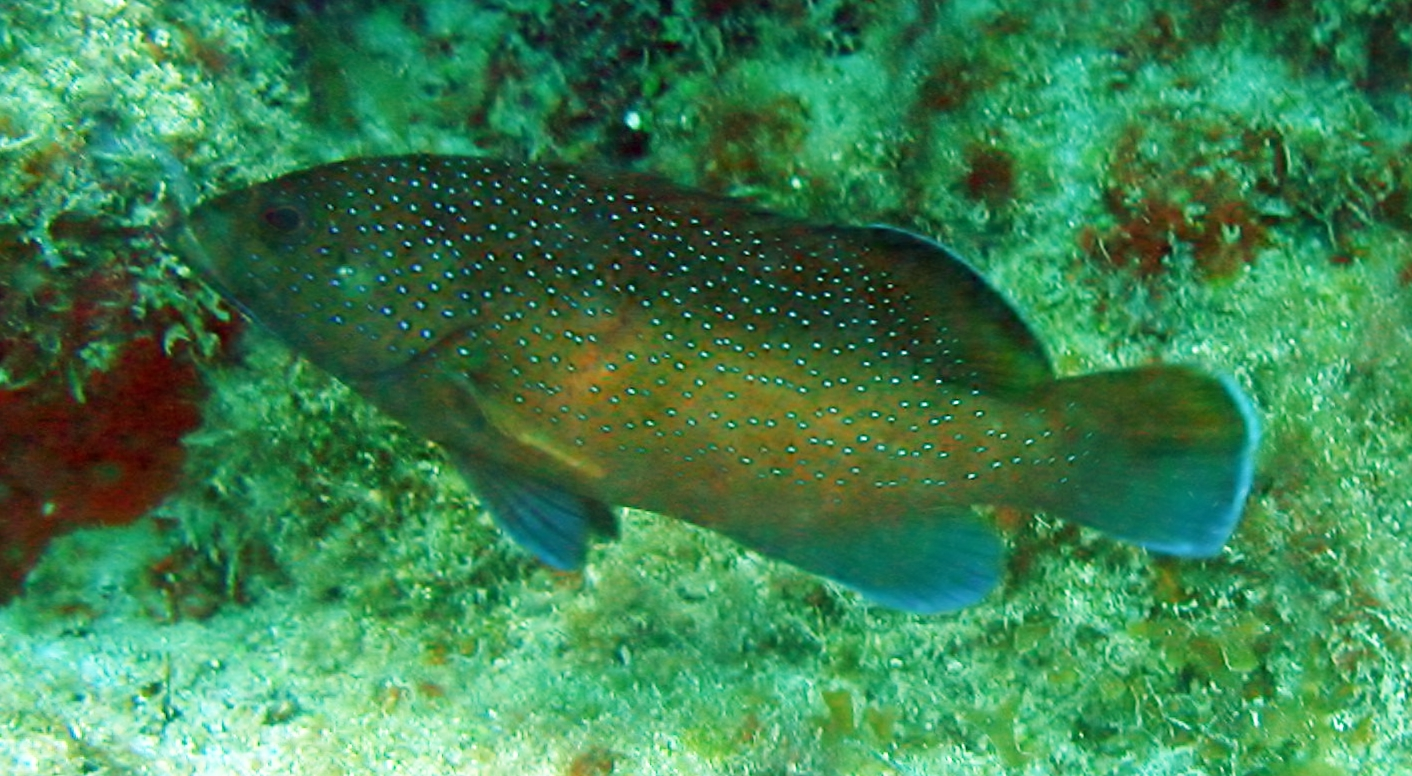Cephalopholis_fulvaw: (160, 135, 1276, 639)
